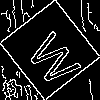W: (24, 24, 89, 90)
